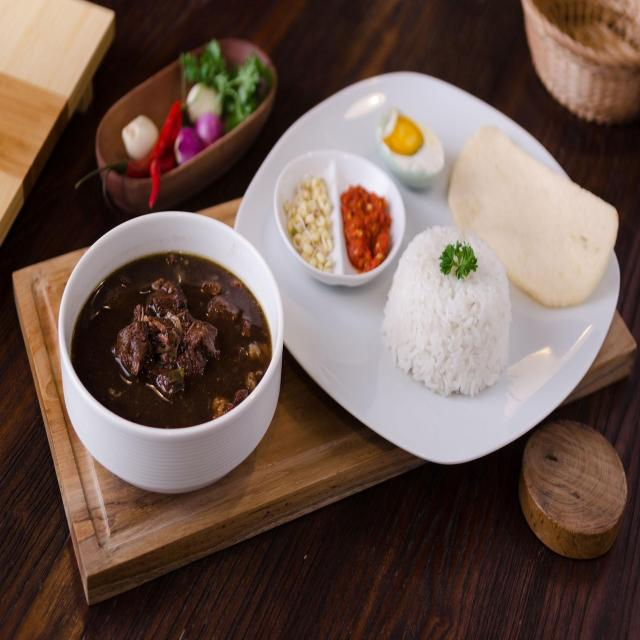Rawon: (73, 250, 266, 421)
